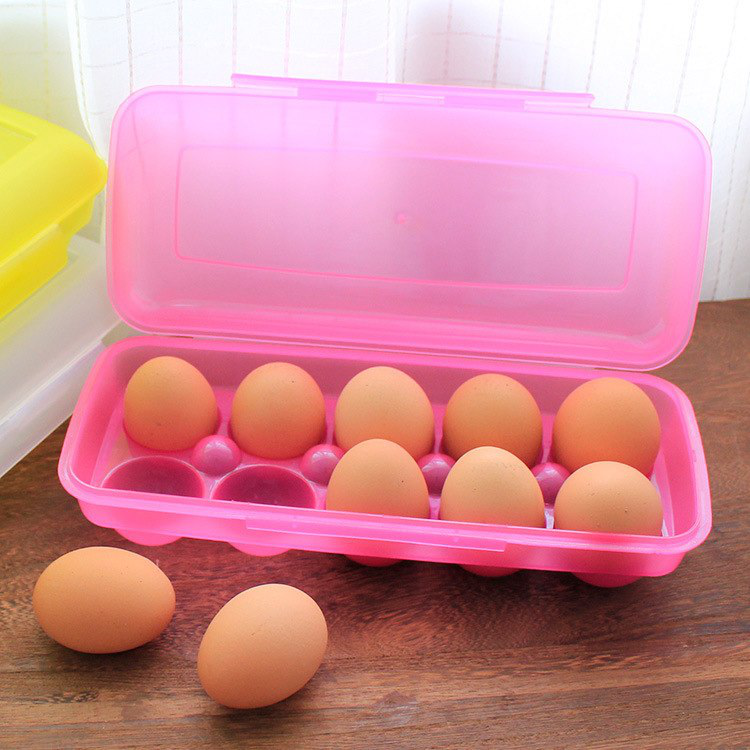egg: (107, 338, 692, 546), (31, 538, 333, 717)
